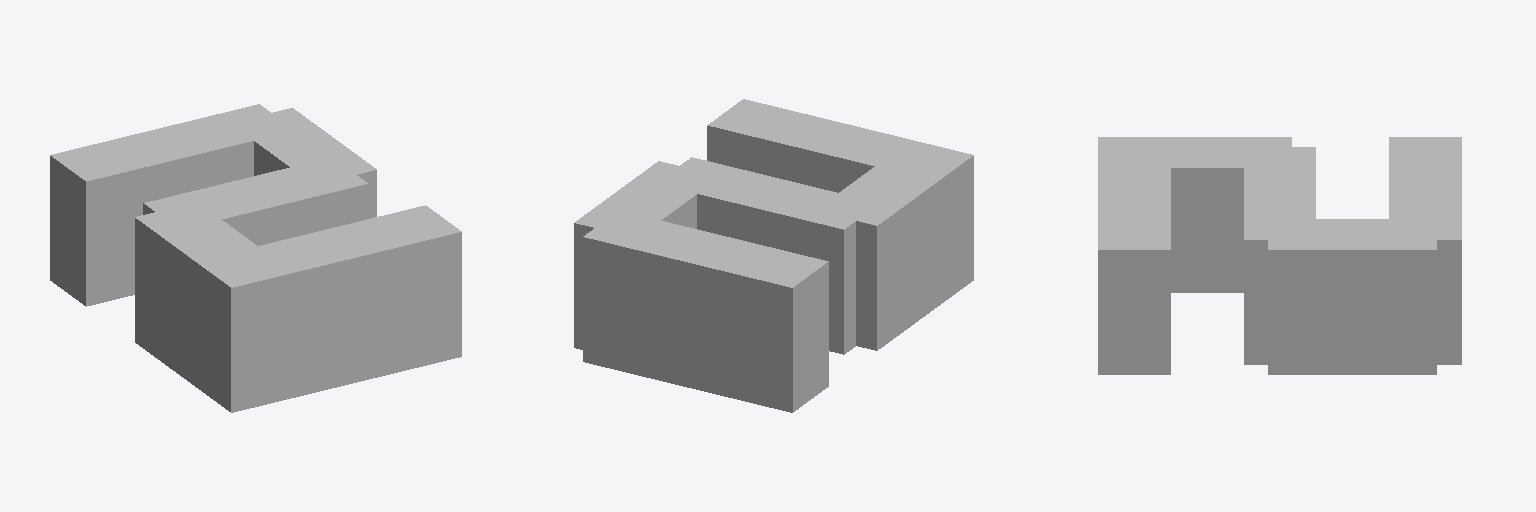
The model's file is num_2.obj.
3 views of the same model, side by side, from view 1: azimuth 30°, elevation 25°; view 2: azimuth 150°, elevation 25°; view 3: azimuth 270°, elevation 25° (orthographic).
Parts seen in each view (by area): view 1: Text; view 2: Text; view 3: Text.
Boxes of the visible parts, x1=… form: Text: x1=50, y1=104, x2=461, y2=412; Text: x1=574, y1=99, x2=973, y2=412; Text: x1=1098, y1=137, x2=1461, y2=374.
Size of the model in its own units: 0.5789 by 0.3 by 0.7895.